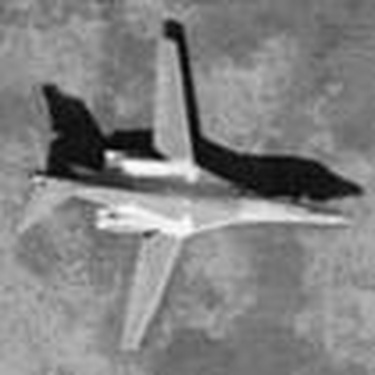airplane: (1, 15, 362, 366)
